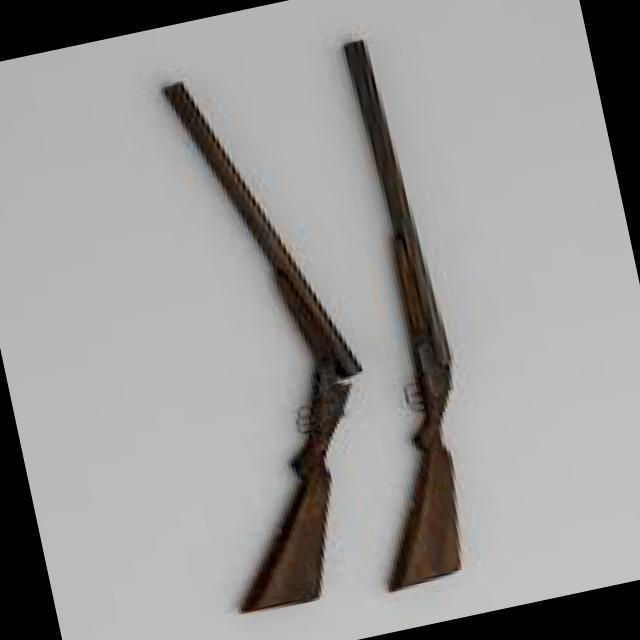long weapon: (318, 2, 488, 598)
